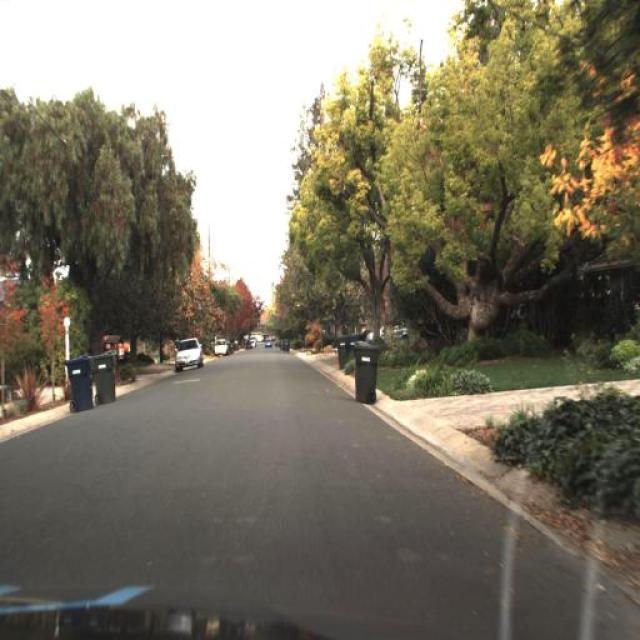car: (172, 334, 207, 376), (176, 337, 204, 369), (100, 332, 134, 356), (213, 338, 228, 358)
